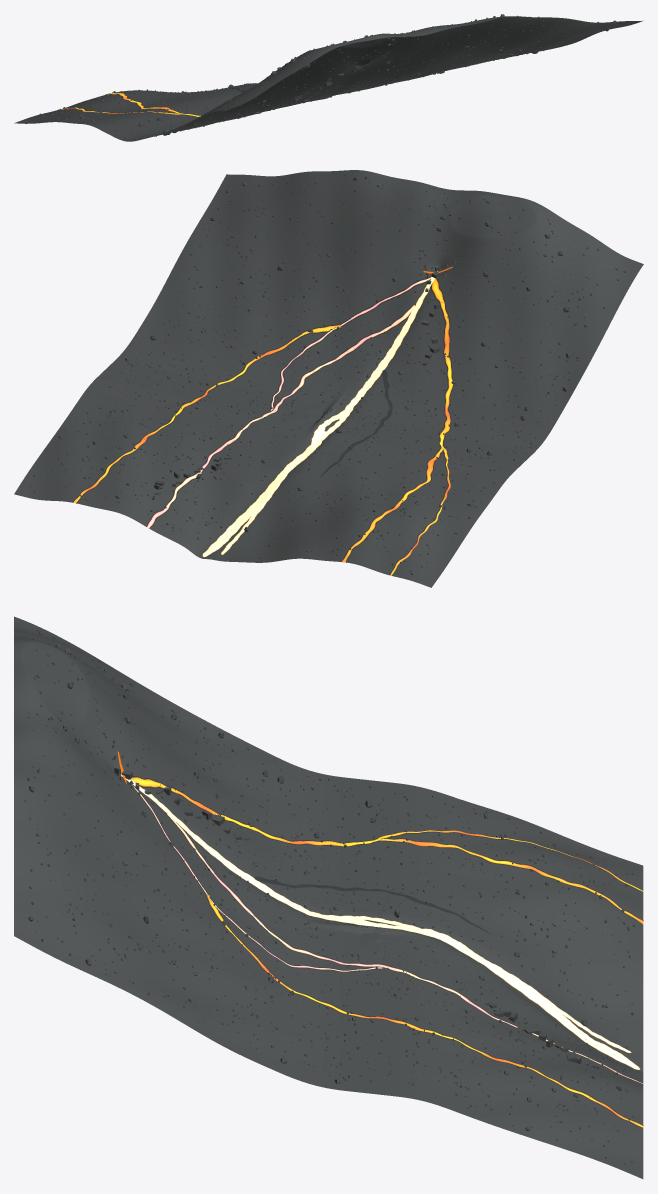
Rendered from ember-mountain-tributaries-r2.glb.
3 renders of one model, top to bottom at view 1: azimuth 30°, elevation 25°; view 2: azimuth 150°, elevation 25°; view 3: azimuth 270°, elevation 25°, orthographic. The views are drawn at different scales.
Parts seen in each view (by area): view 1: EMBER_Terrain, EMBER_BakedTalus, EMBER_WestDistantFlow; view 2: EMBER_Terrain, EMBER_BakedTalus, EMBER_LavaSimulatorDeposit, EMBER_WestDistantFlow, EMBER_EastDistributary, EMBER_WestDistantFlow_Levees, EMBER_FarEastFlow, EMBER_EastDistributary_Levees, EMBER_FarEastFlow_Levees, EMBER_FlankButtresses, EMBER_UpperBraidedBranch_Levees; view 3: EMBER_Terrain, EMBER_BakedTalus, EMBER_LavaSimulatorDeposit, EMBER_WestDistantFlow, EMBER_FlankButtresses, EMBER_WestDistantFlow_Levees, EMBER_FarEastFlow, EMBER_EastDistributary, EMBER_FarEastFlow_Levees, EMBER_EastDistributary_Levees, EMBER_AbandonedOverflow.
Boxes of the visible parts, x1,y1,x2,y2 form: EMBER_Terrain: (14, 16, 643, 141); EMBER_BakedTalus: (39, 14, 624, 139); EMBER_WestDistantFlow: (108, 93, 200, 116); EMBER_Terrain: (14, 170, 643, 587); EMBER_BakedTalus: (30, 175, 625, 574); EMBER_LavaSimulatorDeposit: (202, 271, 438, 557); EMBER_WestDistantFlow: (342, 278, 453, 562); EMBER_EastDistributary: (147, 305, 414, 528); EMBER_WestDistantFlow_Levees: (341, 278, 453, 562); EMBER_FarEastFlow: (73, 324, 341, 503); EMBER_EastDistributary_Levees: (146, 304, 414, 528); EMBER_FarEastFlow_Levees: (73, 323, 341, 503); EMBER_FlankButtresses: (154, 265, 440, 494); EMBER_UpperBraidedBranch_Levees: (270, 276, 431, 410); EMBER_Terrain: (14, 616, 643, 1178); EMBER_BakedTalus: (24, 629, 634, 1164); EMBER_LavaSimulatorDeposit: (121, 774, 640, 1069); EMBER_WestDistantFlow: (131, 777, 643, 924); EMBER_FlankButtresses: (114, 768, 590, 1064); EMBER_WestDistantFlow_Levees: (132, 776, 643, 924); EMBER_FarEastFlow: (206, 893, 643, 1127); EMBER_EastDistributary: (167, 814, 642, 1083); EMBER_FarEastFlow_Levees: (204, 892, 643, 1128); EMBER_EastDistributary_Levees: (166, 813, 642, 1083); EMBER_AbandonedOverflow: (253, 876, 492, 934).
Size of the model in its own units: 380 by 201 by 335.
